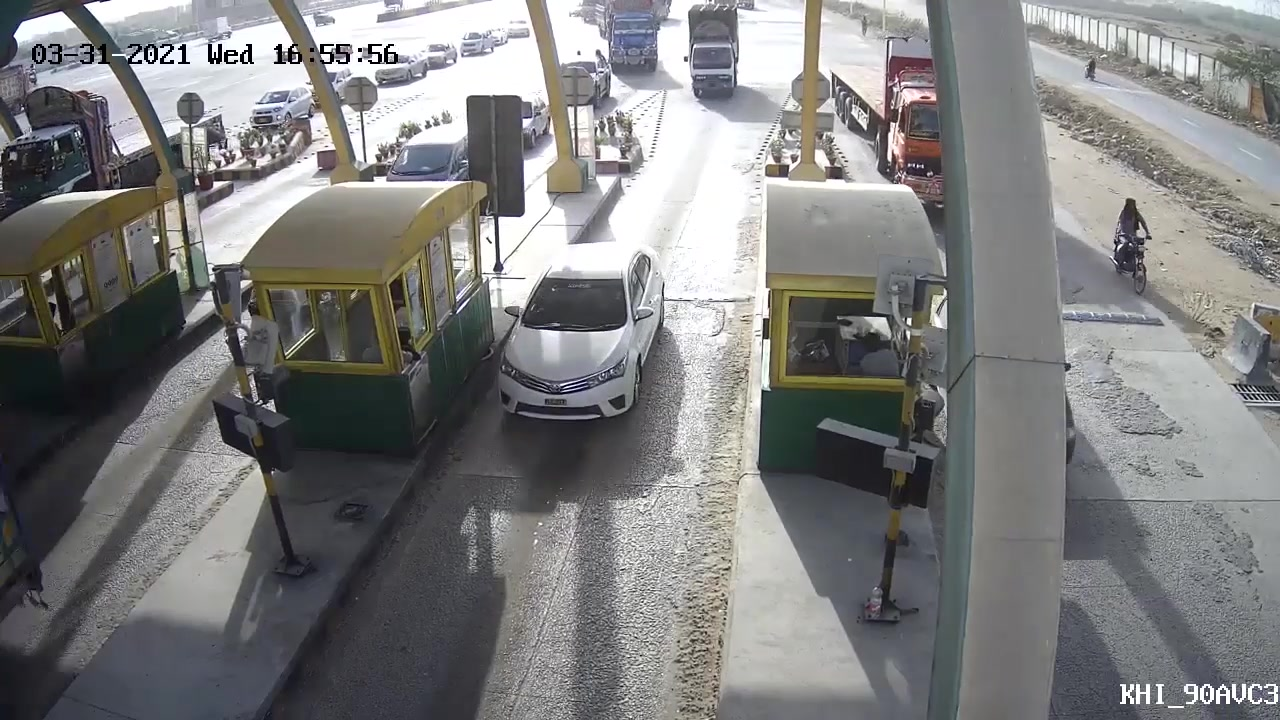F1: (488, 238, 673, 439)
